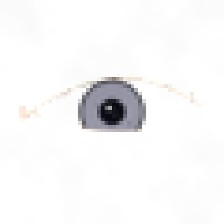pterygium_lesion: (24, 99, 55, 125)
